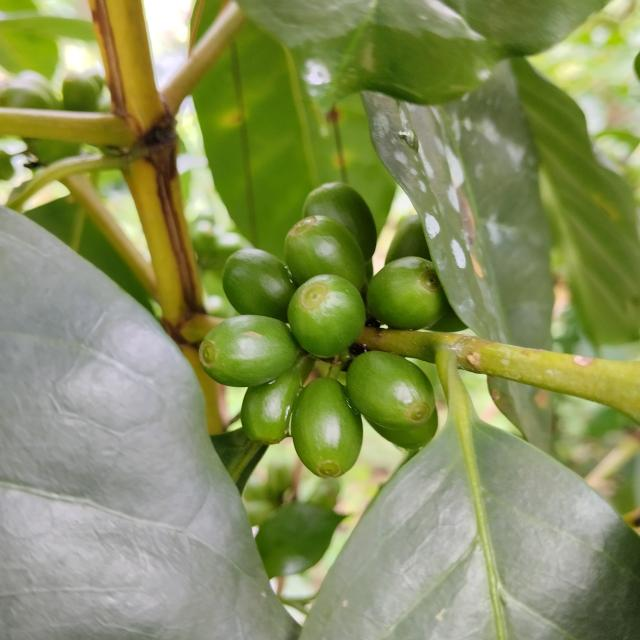green: (291, 377, 363, 478), (199, 315, 299, 387), (346, 351, 435, 429), (288, 274, 366, 358), (285, 215, 366, 291), (303, 181, 377, 263), (367, 256, 449, 330), (222, 248, 297, 323), (240, 369, 302, 445), (366, 409, 439, 450), (386, 214, 431, 264)
